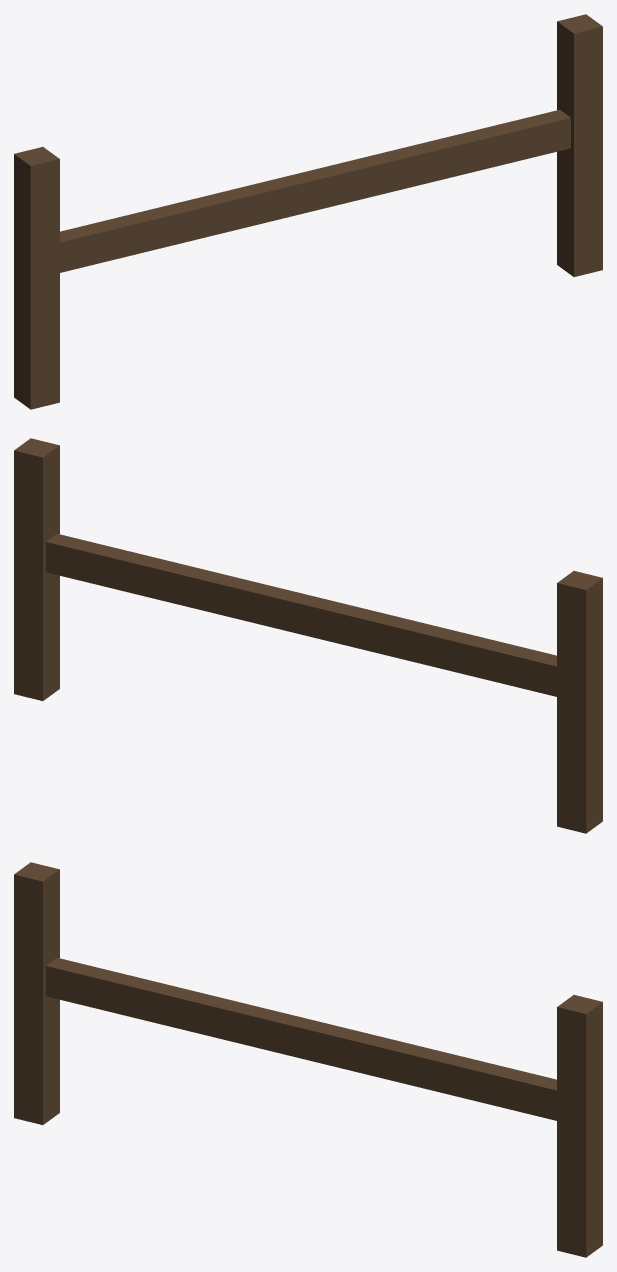
The model's file is wood_fence.glb.
3 renders of one model, top to bottom at view 1: azimuth 30°, elevation 25°; view 2: azimuth 150°, elevation 25°; view 3: azimuth 330°, elevation 25°, orthographic.
Parts seen in each view (by area): view 1: WoodFence; view 2: WoodFence; view 3: WoodFence.
Boxes of the visible parts, x1=… form: WoodFence: x1=14, y1=14, x2=602, y2=409; WoodFence: x1=14, y1=438, x2=602, y2=833; WoodFence: x1=14, y1=862, x2=602, y2=1257.
Size of the model in its own units: 2.95 by 1.2 by 0.15.
